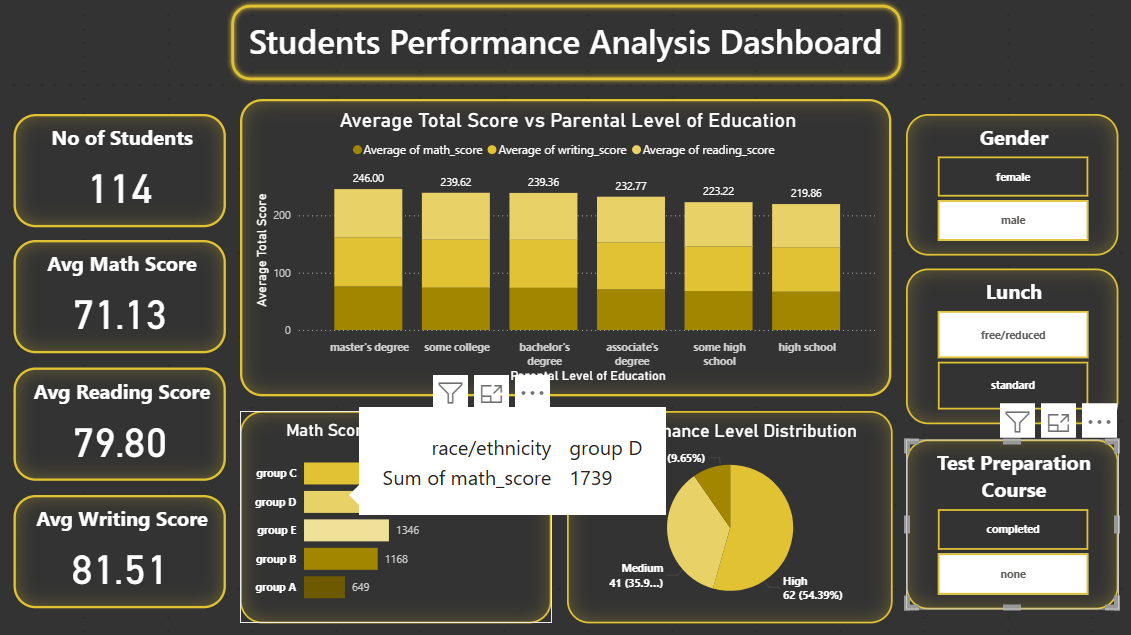

This screenshot's page, from the dashboard's own definition file:
{"tool":"powerbi","page":{"name":"Page 1","canvas":[1280,720],"ordinal":0},"visuals":[{"type":"shape","box":[256,0,768,96],"z":0},{"type":"textbox","box":[272,16,736,64],"z":1000},{"type":"card","title":"No of Students","fields":{"Values":["CountNonNull(Student_Performance.gender)"]},"box":[16,128,240,128],"z":2000},{"type":"card","title":"Avg Math Score","fields":{"Values":["Avg(Student_Performance.math_score)"]},"box":[16,272,240,128],"z":3000},{"type":"card","title":"Avg Reading Score","fields":{"Values":["Avg(Student_Performance.reading_score)"]},"box":[16,416,240,128],"z":4000},{"type":"card","title":"Avg Writing Score","fields":{"Values":["Avg(Student_Performance.writing_score)"]},"box":[16,560,240,128],"z":5000},{"type":"columnChart","title":"Average Total Score vs Parental Level of Education","fields":{"Category":["Student_Performance.parental_level_of_education"],"Y":["Avg(Student_Performance.math_score)","Avg(Student_Performance.writing_score)","Avg(Student_Performance.reading_score)"]},"box":[272,112,736,336],"z":6000},{"type":"clusteredBarChart","title":"Math Score VS Race/Ethnicity","fields":{"Category":["Student_Performance.race/ethnicity"],"Y":["Sum(Student_Performance.math_score)"]},"box":[272,464,352,240],"z":7000},{"type":"pieChart","title":"Performance Level Distribution","fields":{"Category":["Student_Performance.performance_level"],"Y":["CountNonNull(Student_Performance.gender)"]},"box":[640,464,368,240],"z":8000},{"type":"slicer","title":"Gender","fields":{"Values":["Student_Performance.gender"]},"box":[1024,128,240,160],"z":9000},{"type":"slicer","title":"Lunch","fields":{"Values":["Student_Performance.lunch"]},"box":[1024,304,240,176],"z":9001},{"type":"slicer","title":"Test Preparation Course","fields":{"Values":["Student_Performance.test_preparation_course"]},"box":[1024,496,240,192],"z":9002}]}

Visuals, with their boxes in screenshot pixels (x1, y1, x2, y2), scaled from the page's 1280x720 canvas onto the 1131x635 screenshot:
shape: left=226, top=0, right=905, bottom=85
textbox: left=240, top=14, right=891, bottom=71
"No of Students" card: left=14, top=113, right=226, bottom=226
"Avg Math Score" card: left=14, top=240, right=226, bottom=353
"Avg Reading Score" card: left=14, top=367, right=226, bottom=480
"Avg Writing Score" card: left=14, top=494, right=226, bottom=607
"Average Total Score vs Parental Level of Education" columnChart: left=240, top=99, right=891, bottom=395
"Math Score VS Race/Ethnicity" clusteredBarChart: left=240, top=409, right=551, bottom=621
"Performance Level Distribution" pieChart: left=566, top=409, right=891, bottom=621
"Gender" slicer: left=905, top=113, right=1117, bottom=254
"Lunch" slicer: left=905, top=268, right=1117, bottom=423
"Test Preparation Course" slicer: left=905, top=437, right=1117, bottom=607
